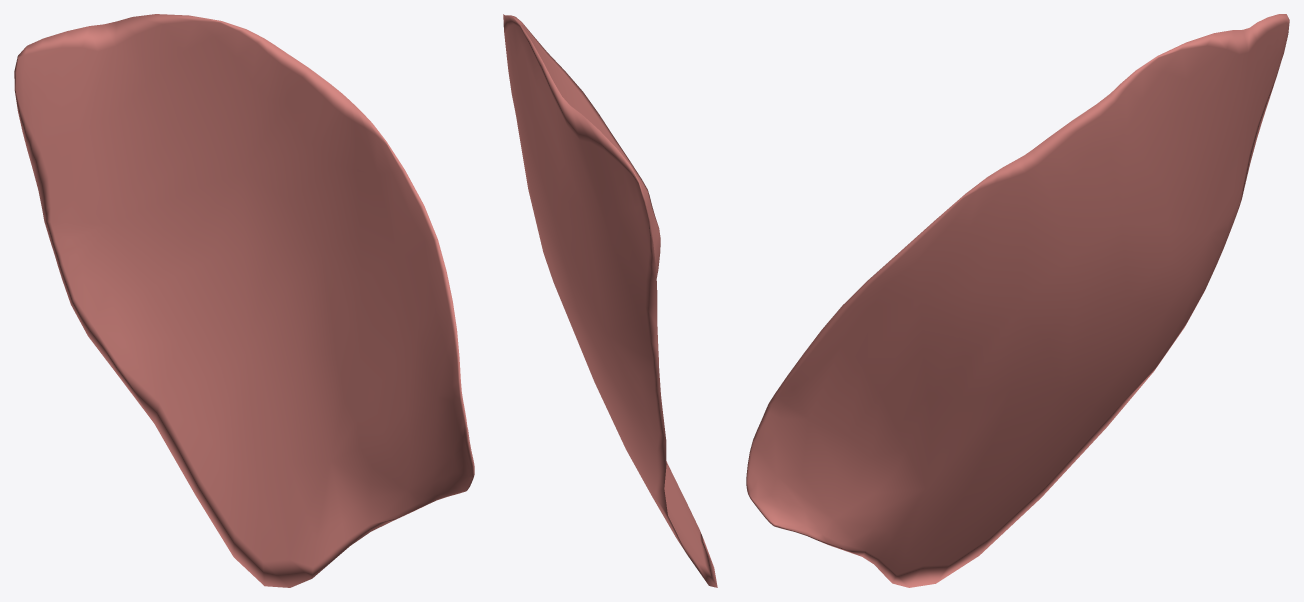
The picture shows the model from 3 angles, left to right: view 1: azimuth 30°, elevation 25°; view 2: azimuth 150°, elevation 25°; view 3: azimuth 270°, elevation 25°; orthographic projection. The views are drawn at different scales.
Visible parts, largest first — view 1: ZA_3416c6096c9dbc49; view 2: ZA_3416c6096c9dbc49; view 3: ZA_3416c6096c9dbc49.
Boxes of the visible parts, x1,y1,x2,y2 form: ZA_3416c6096c9dbc49: (14, 14, 474, 587); ZA_3416c6096c9dbc49: (503, 14, 717, 587); ZA_3416c6096c9dbc49: (746, 14, 1289, 587).
Bounding box in the file's own units: 0.0512 × 0.0972 × 0.0856.
